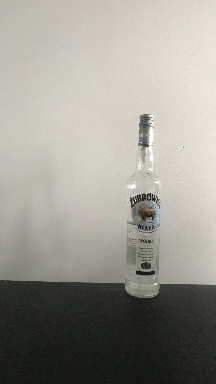butelka: (123, 110, 161, 301)
